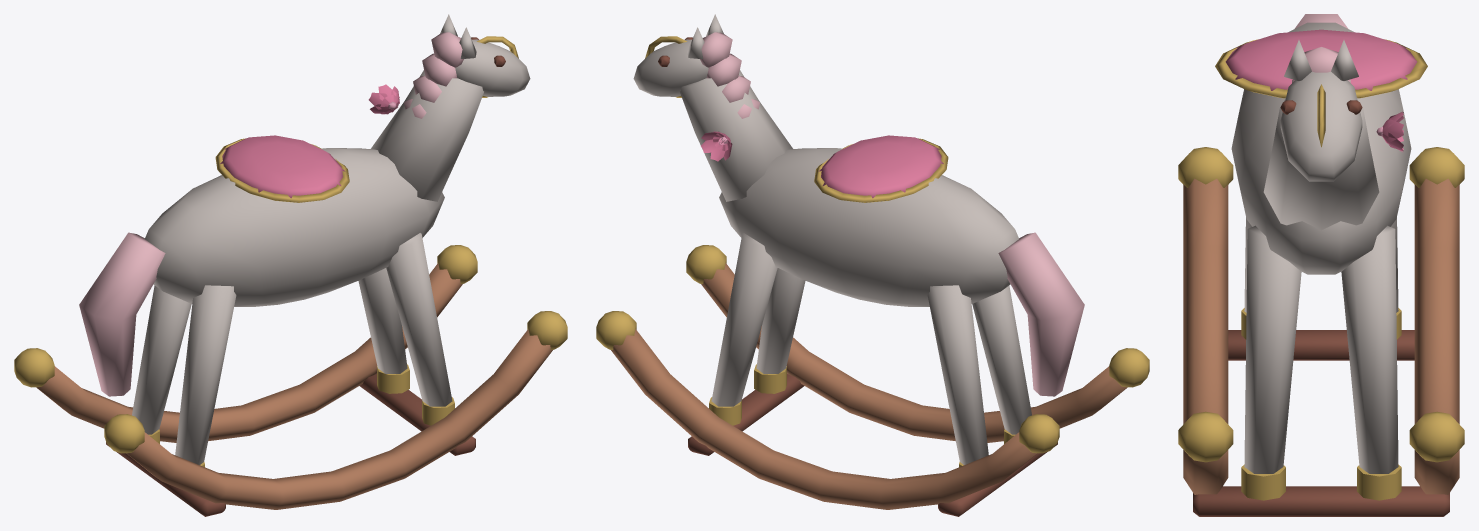
Rendered from rocking_horse.glb.
3 renders of one model, left to right at view 1: azimuth 30°, elevation 25°; view 2: azimuth 150°, elevation 25°; view 3: azimuth 270°, elevation 25°, orthographic. The views are drawn at different scales.
Parts seen in each view (by area): view 1: rocking_horse; view 2: rocking_horse; view 3: rocking_horse.
Boxes of the visible parts, <box> form: rocking_horse: <box>14,14,567,516</box>; rocking_horse: <box>596,14,1149,516</box>; rocking_horse: <box>1178,14,1464,516</box>.
Size of what is drawn, in the model's own units: 1.2 by 1 by 0.5.
